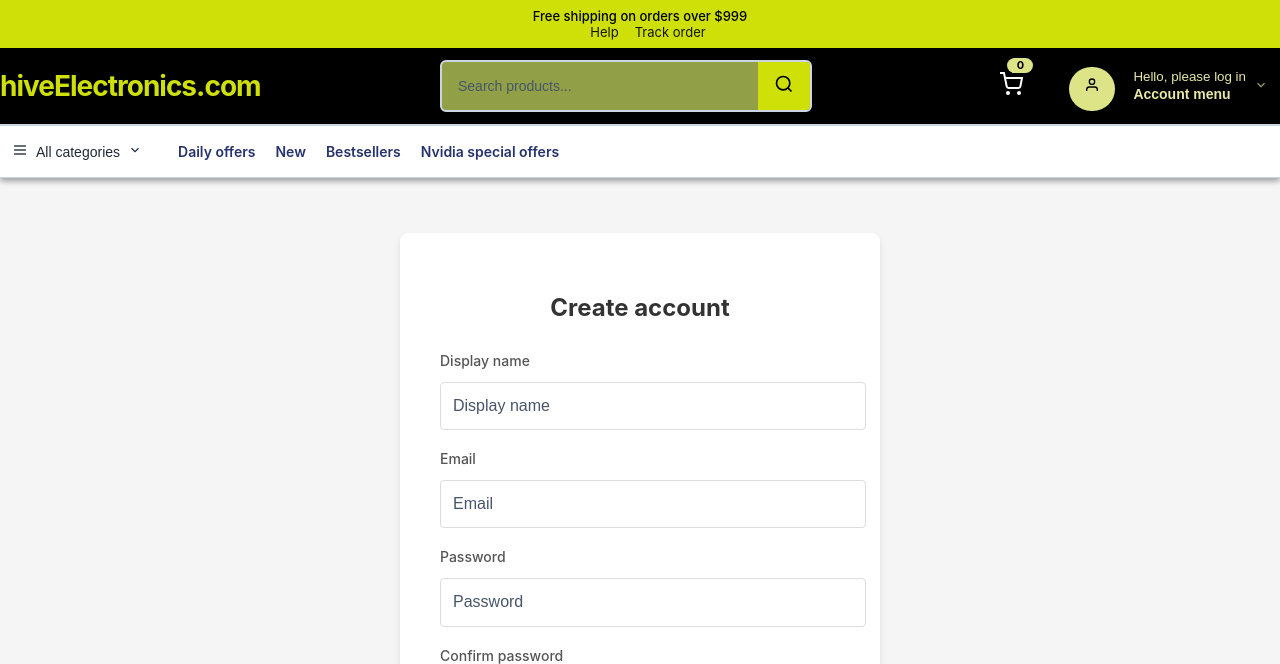
Scenario: Signup flow › TC-E2E-AUTH-012 — mismatched passwords show "Passwords do not match"
Type "Test User" into the field with test id "displayName-input".
click(653, 406); type("Test User")  # box [440,382,866,430]
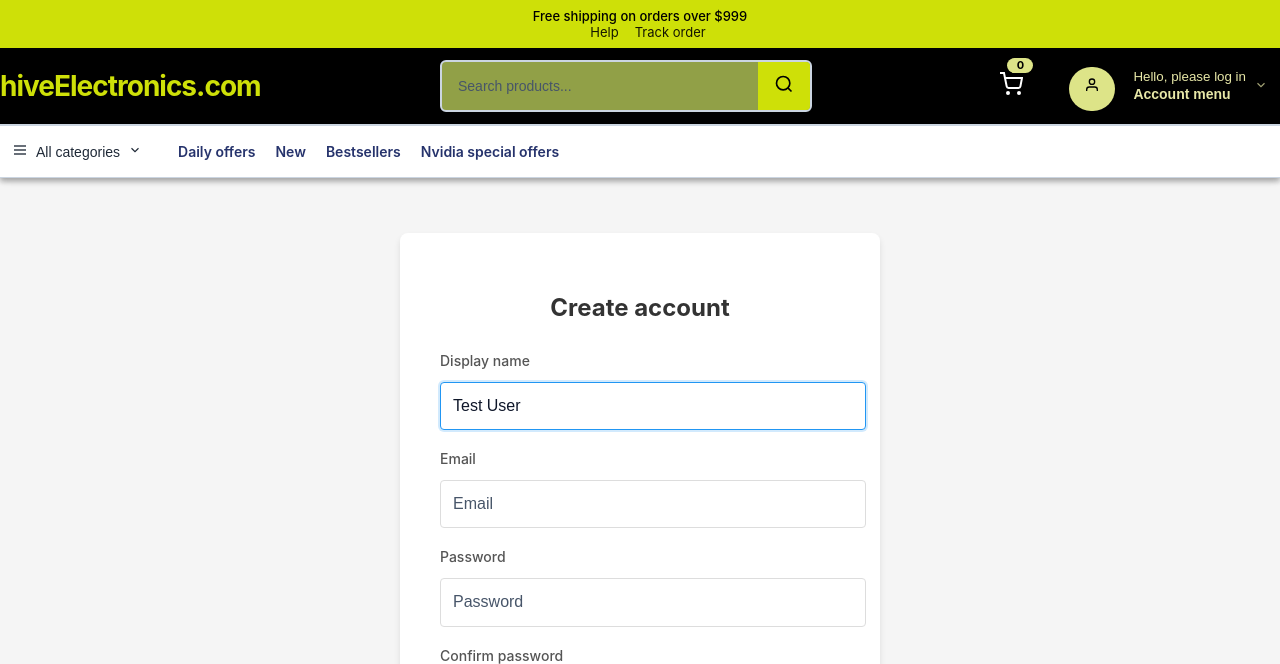
Type "mismatch@example.com" into the field with test id "email-input".
click(653, 504); type("mismatch@example.com")  # box [440,480,866,528]
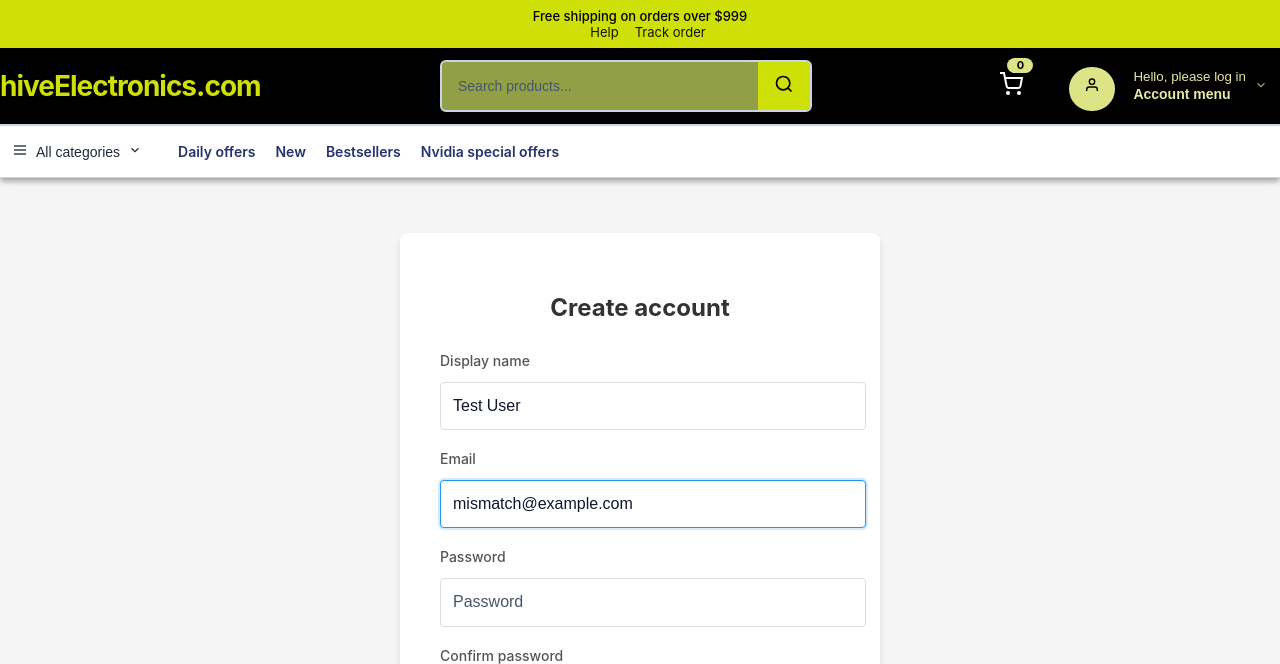
Type "password1" into the password field with test id "password-input".
click(653, 603); type("password1")  # box [440,579,866,627]
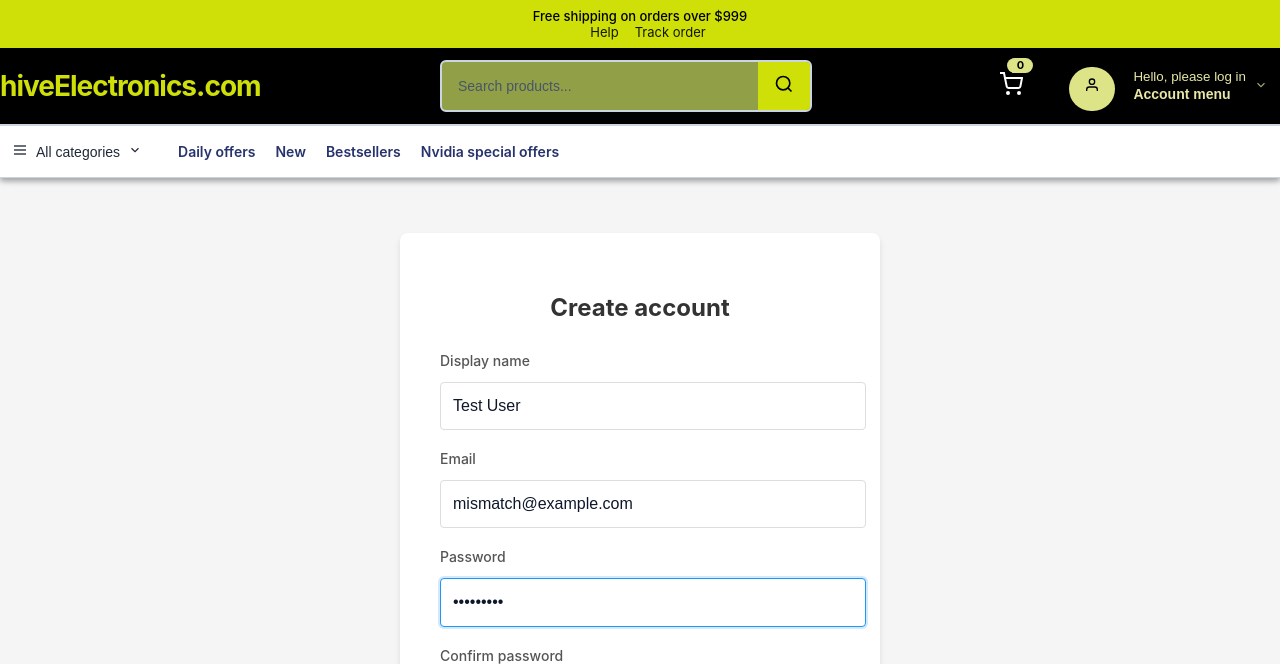
Scroll
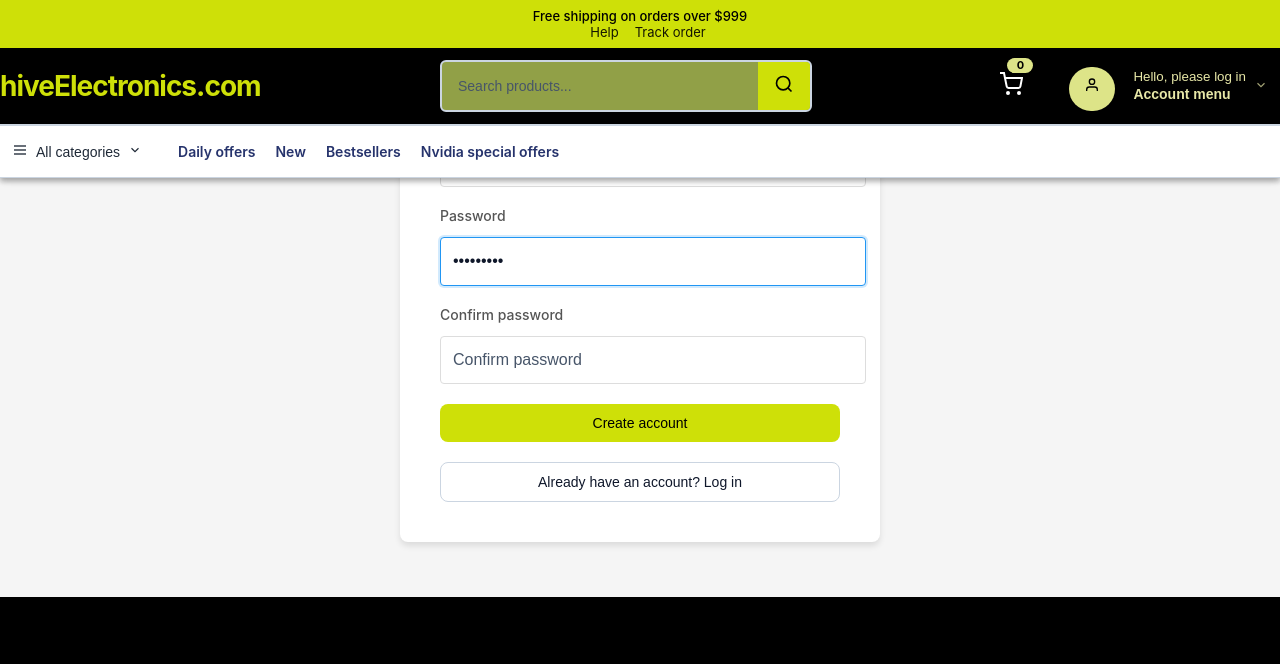
Type "password2" into the password field with test id "confirmPassword-input".
click(653, 360); type("password2")  # box [440,336,866,384]
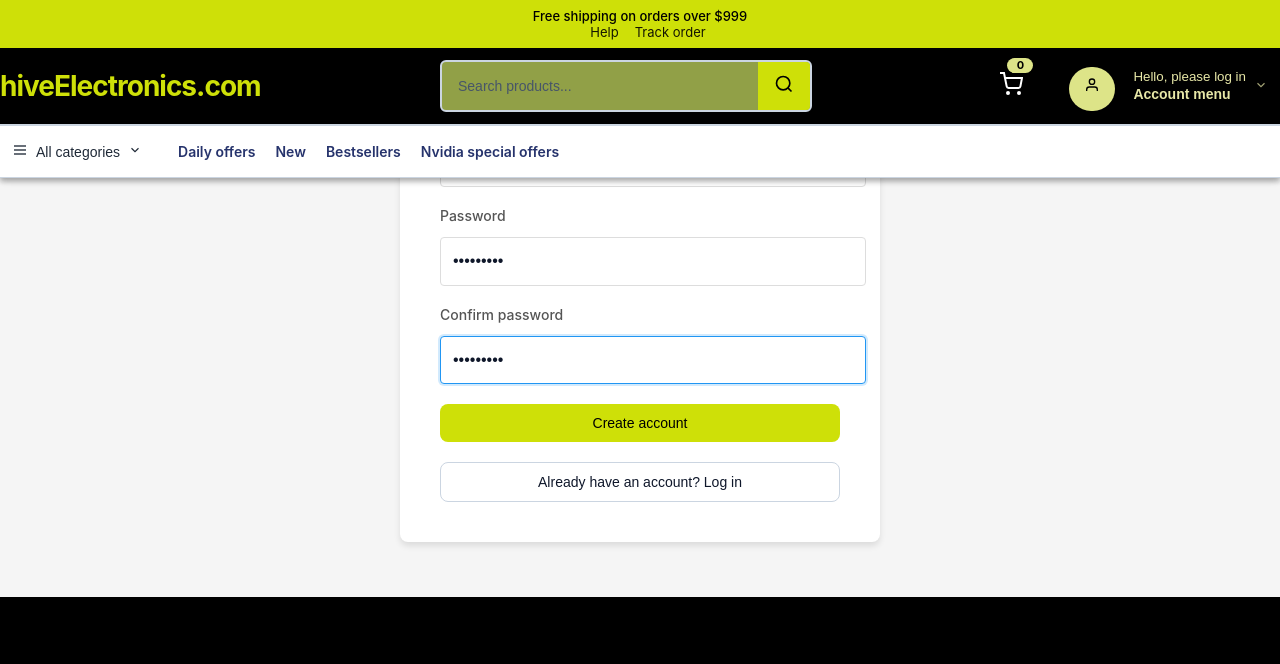
Click the button with test id "signup-submit".
click(640, 423)  # box [440,404,840,442]
(page scrolled)
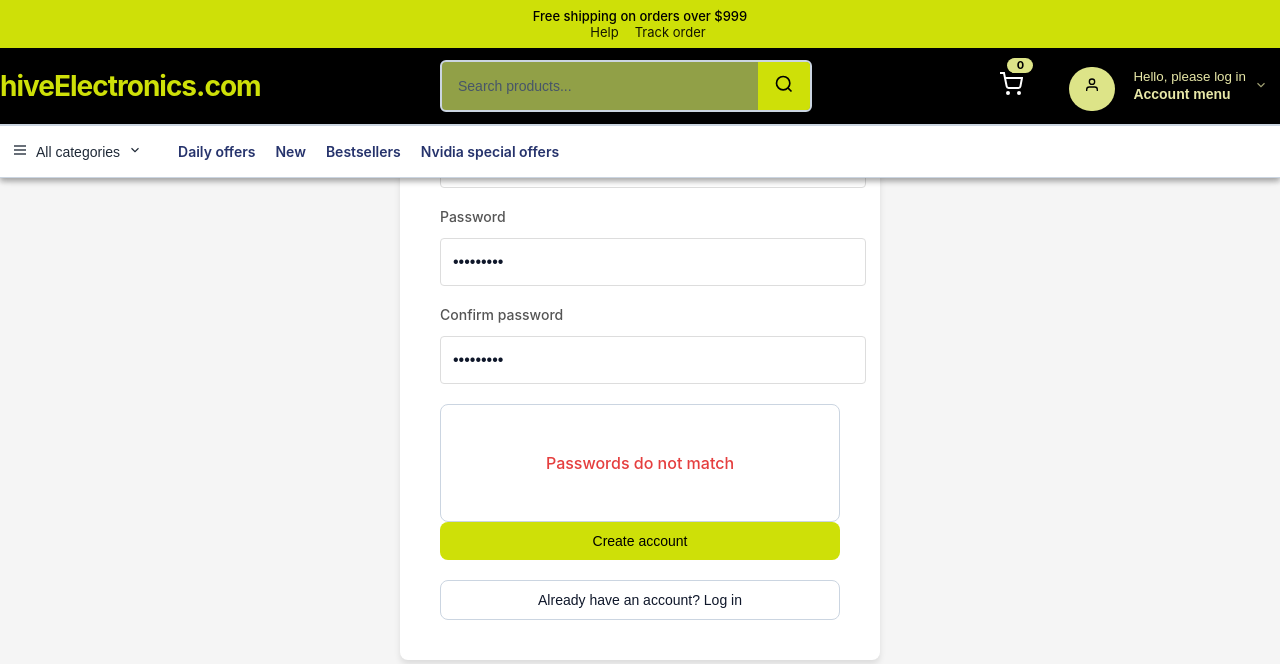
Expected: the message "Passwords do not match" is shown, [440,404,840,522]
